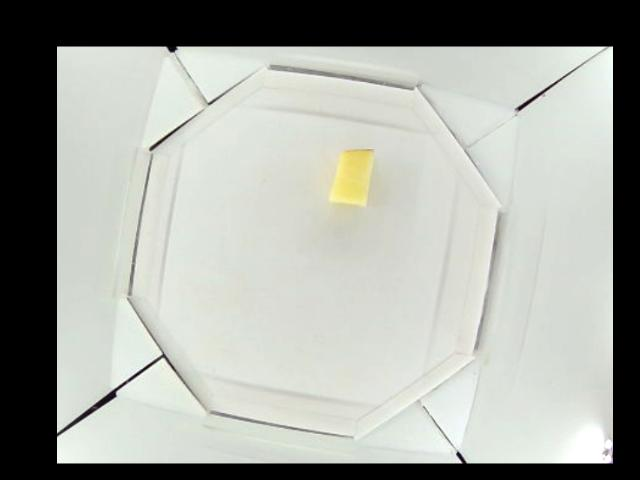Potato: (331, 148, 374, 206)
